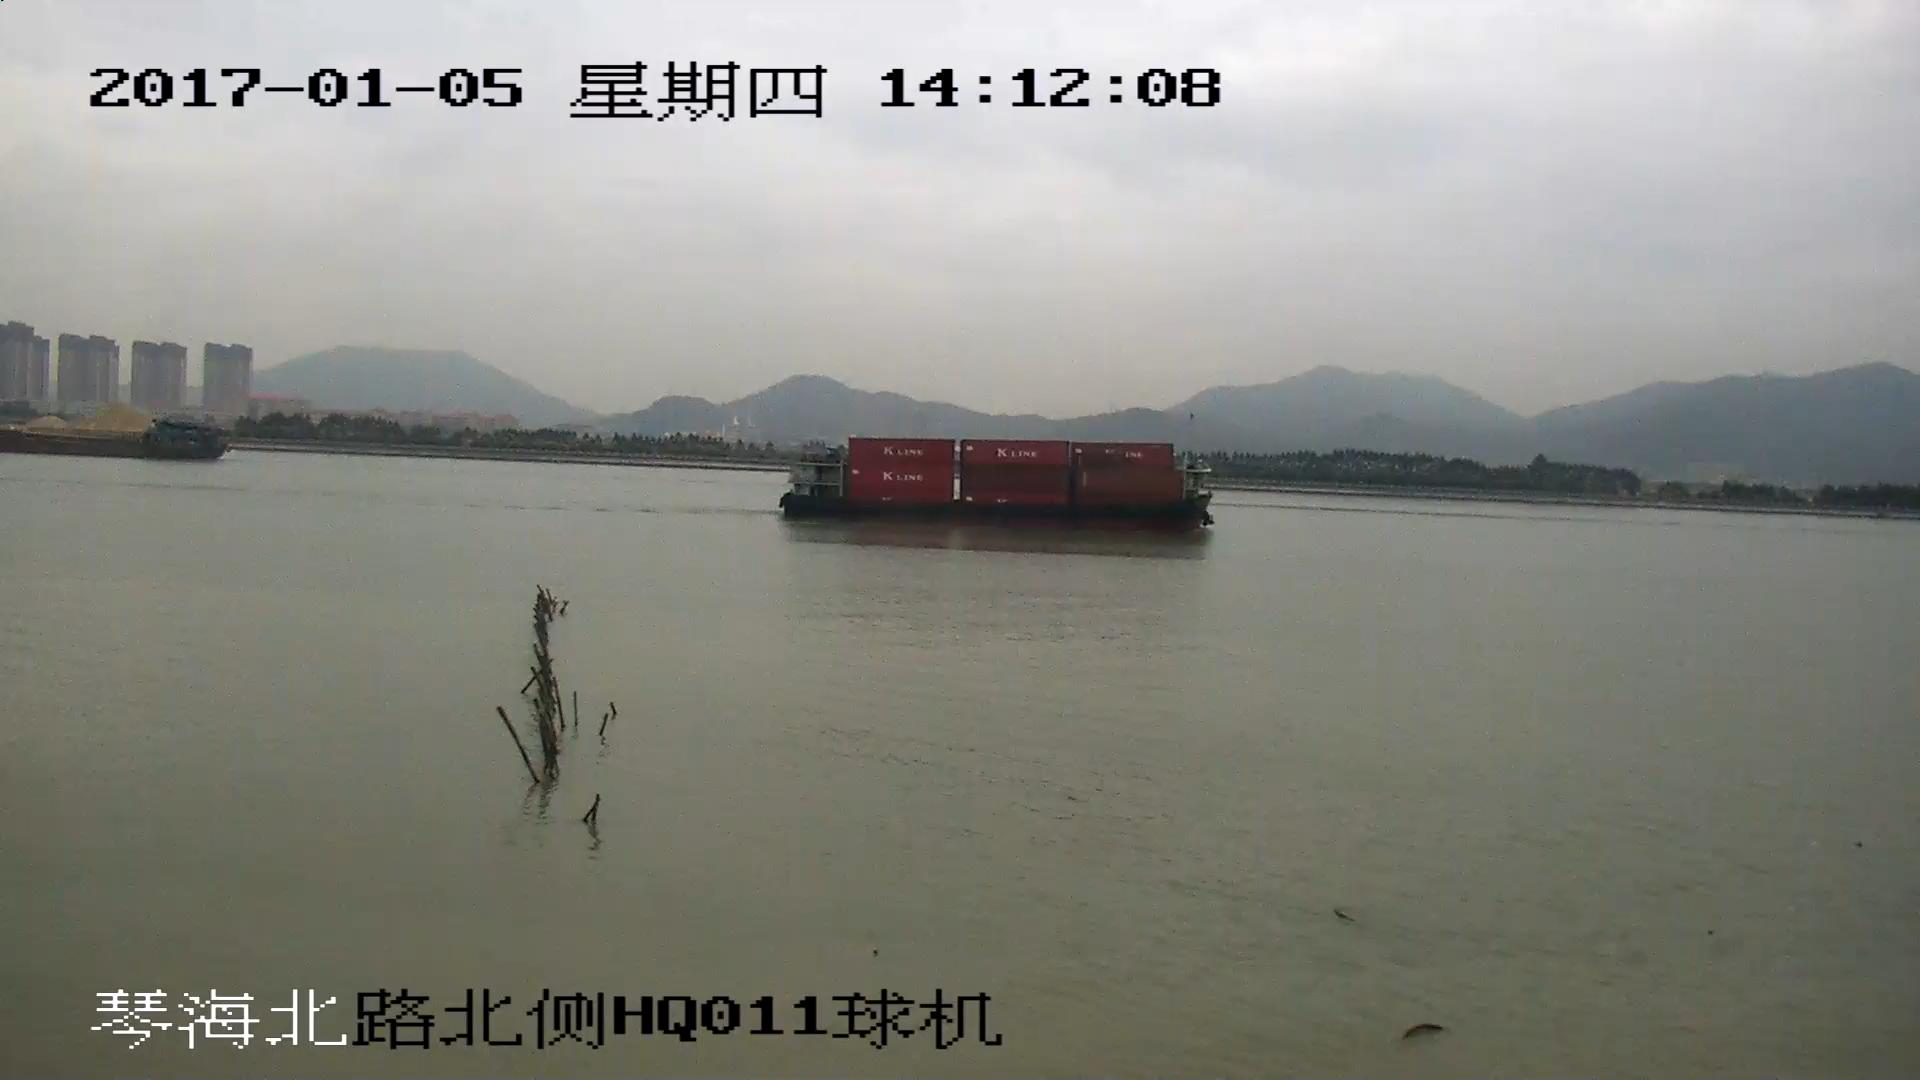bulk cargo carrier: (1, 422, 224, 461)
container ship: (778, 436, 1211, 532)
